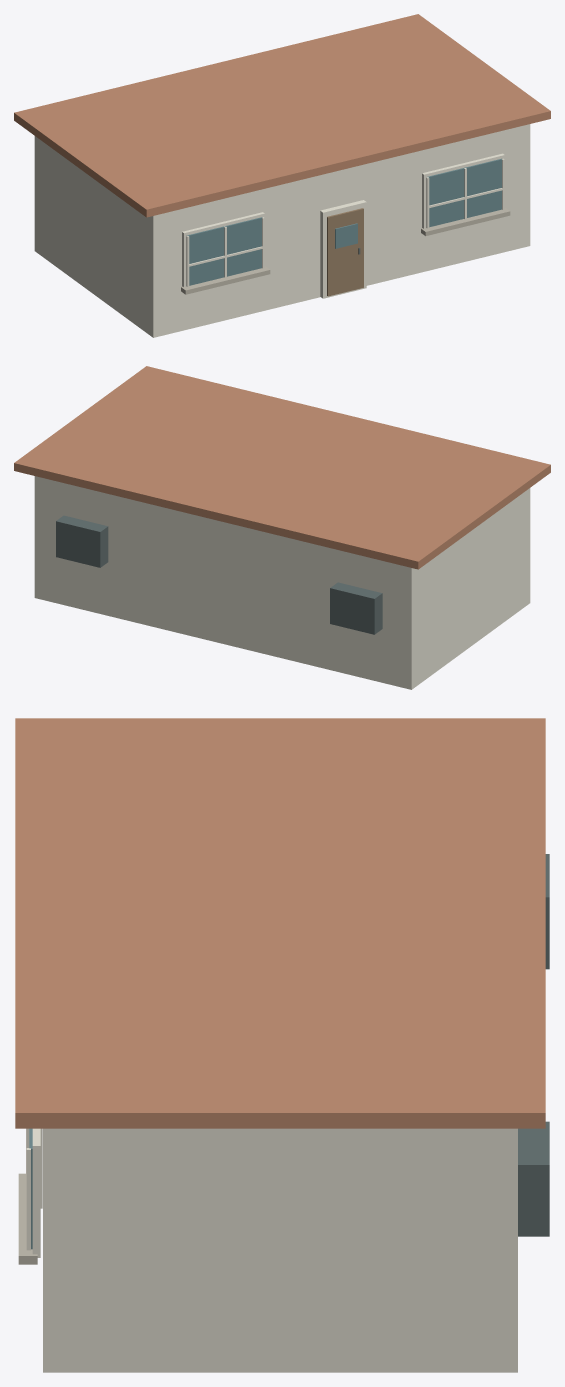
3 renders of one model, top to bottom at view 1: azimuth 30°, elevation 25°; view 2: azimuth 150°, elevation 25°; view 3: azimuth 270°, elevation 25°, orthographic. The views are drawn at different scales.
Size of the model in its own units: 11.8 by 3.81 by 6.75.
